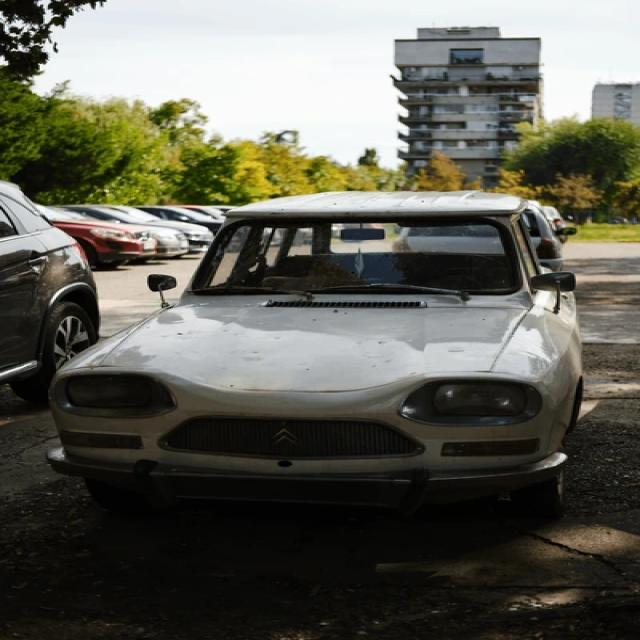cherry: (276, 425, 304, 452)
